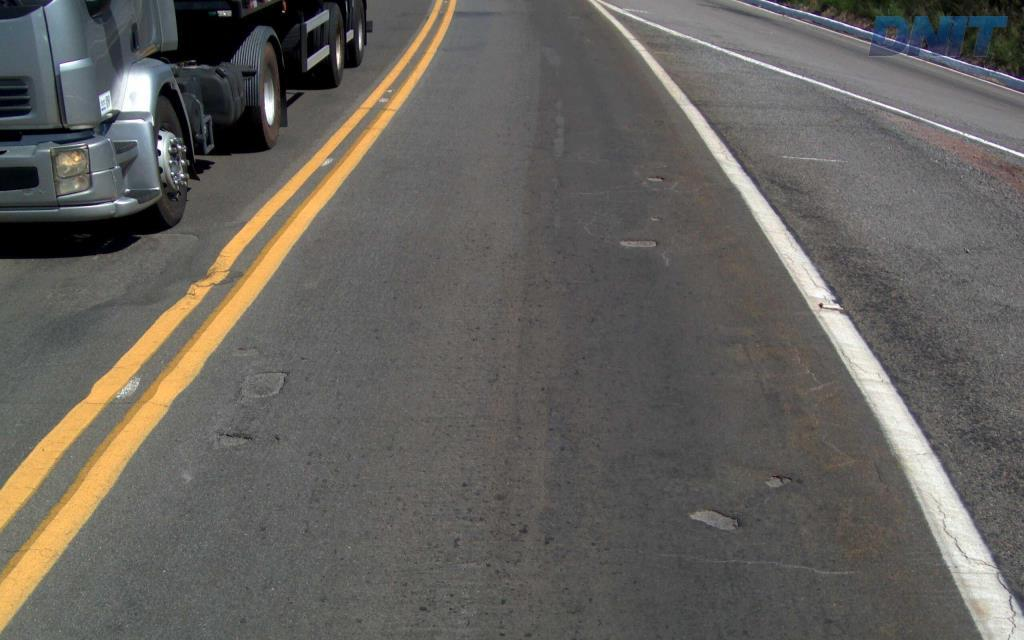pothole: (682, 503, 748, 538), (235, 366, 290, 408), (211, 429, 261, 453), (609, 236, 670, 254), (759, 470, 805, 493), (224, 342, 264, 360), (642, 172, 667, 185), (648, 213, 665, 225)
